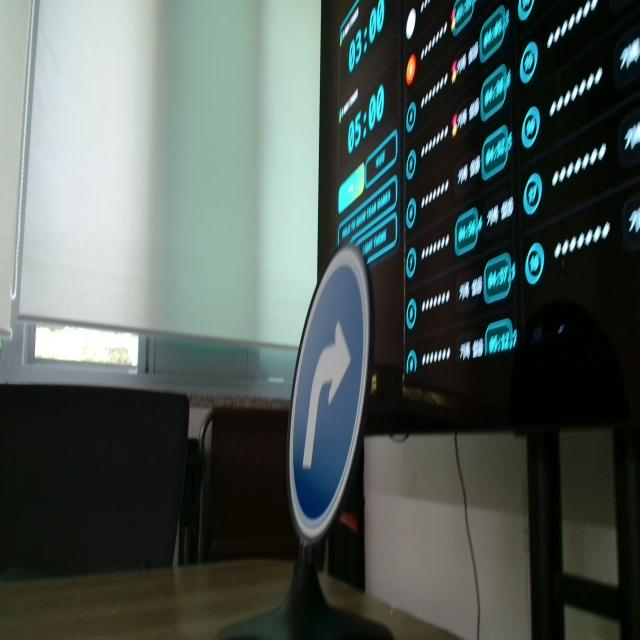right_dierection: (278, 240, 376, 535)
